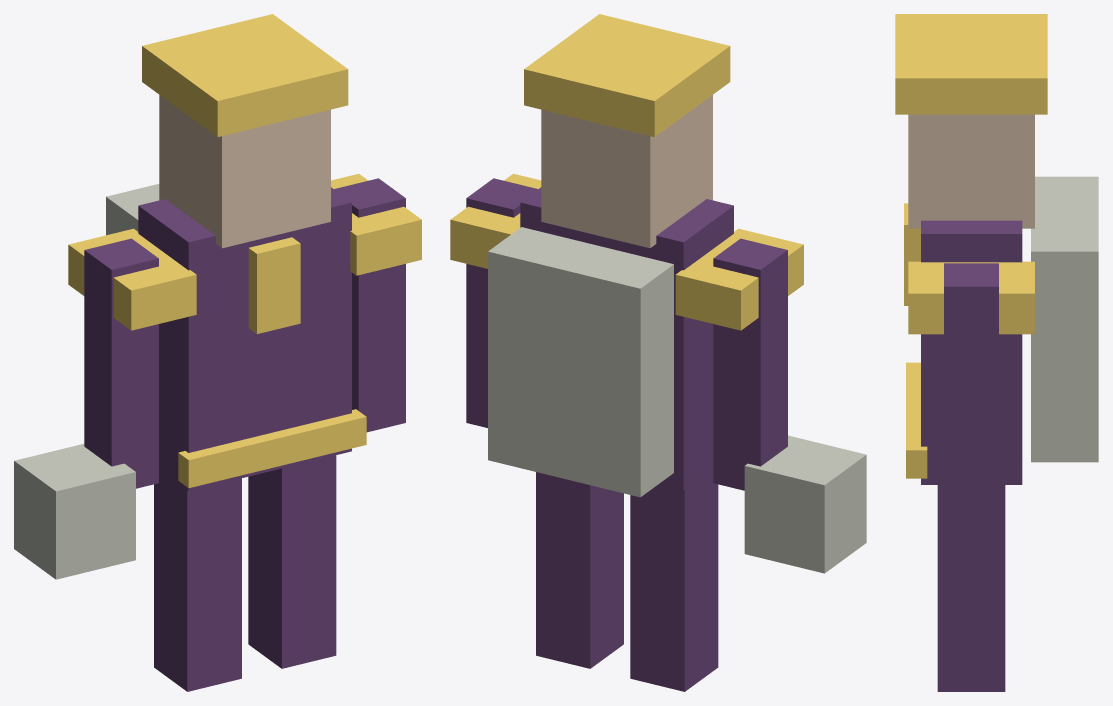
Rendered from 16_lyric_gearmantle_herald_under_security.glb.
The picture shows the model from 3 angles, left to right: view 1: azimuth 30°, elevation 25°; view 2: azimuth 150°, elevation 25°; view 3: azimuth 270°, elevation 25°; orthographic projection.
Parts seen in each view (by area): view 1: Lyric Gearmantle, Herald under Security; view 2: Lyric Gearmantle, Herald under Security; view 3: Lyric Gearmantle, Herald under Security.
Part boxes in pixels (box(x1,y1,x2,y2)): Lyric Gearmantle, Herald under Security: box(14, 14, 421, 691); Lyric Gearmantle, Herald under Security: box(450, 14, 866, 691); Lyric Gearmantle, Herald under Security: box(895, 14, 1098, 691).
Bounding box in the file's own units: 1.04 × 1.66 × 0.5004.
